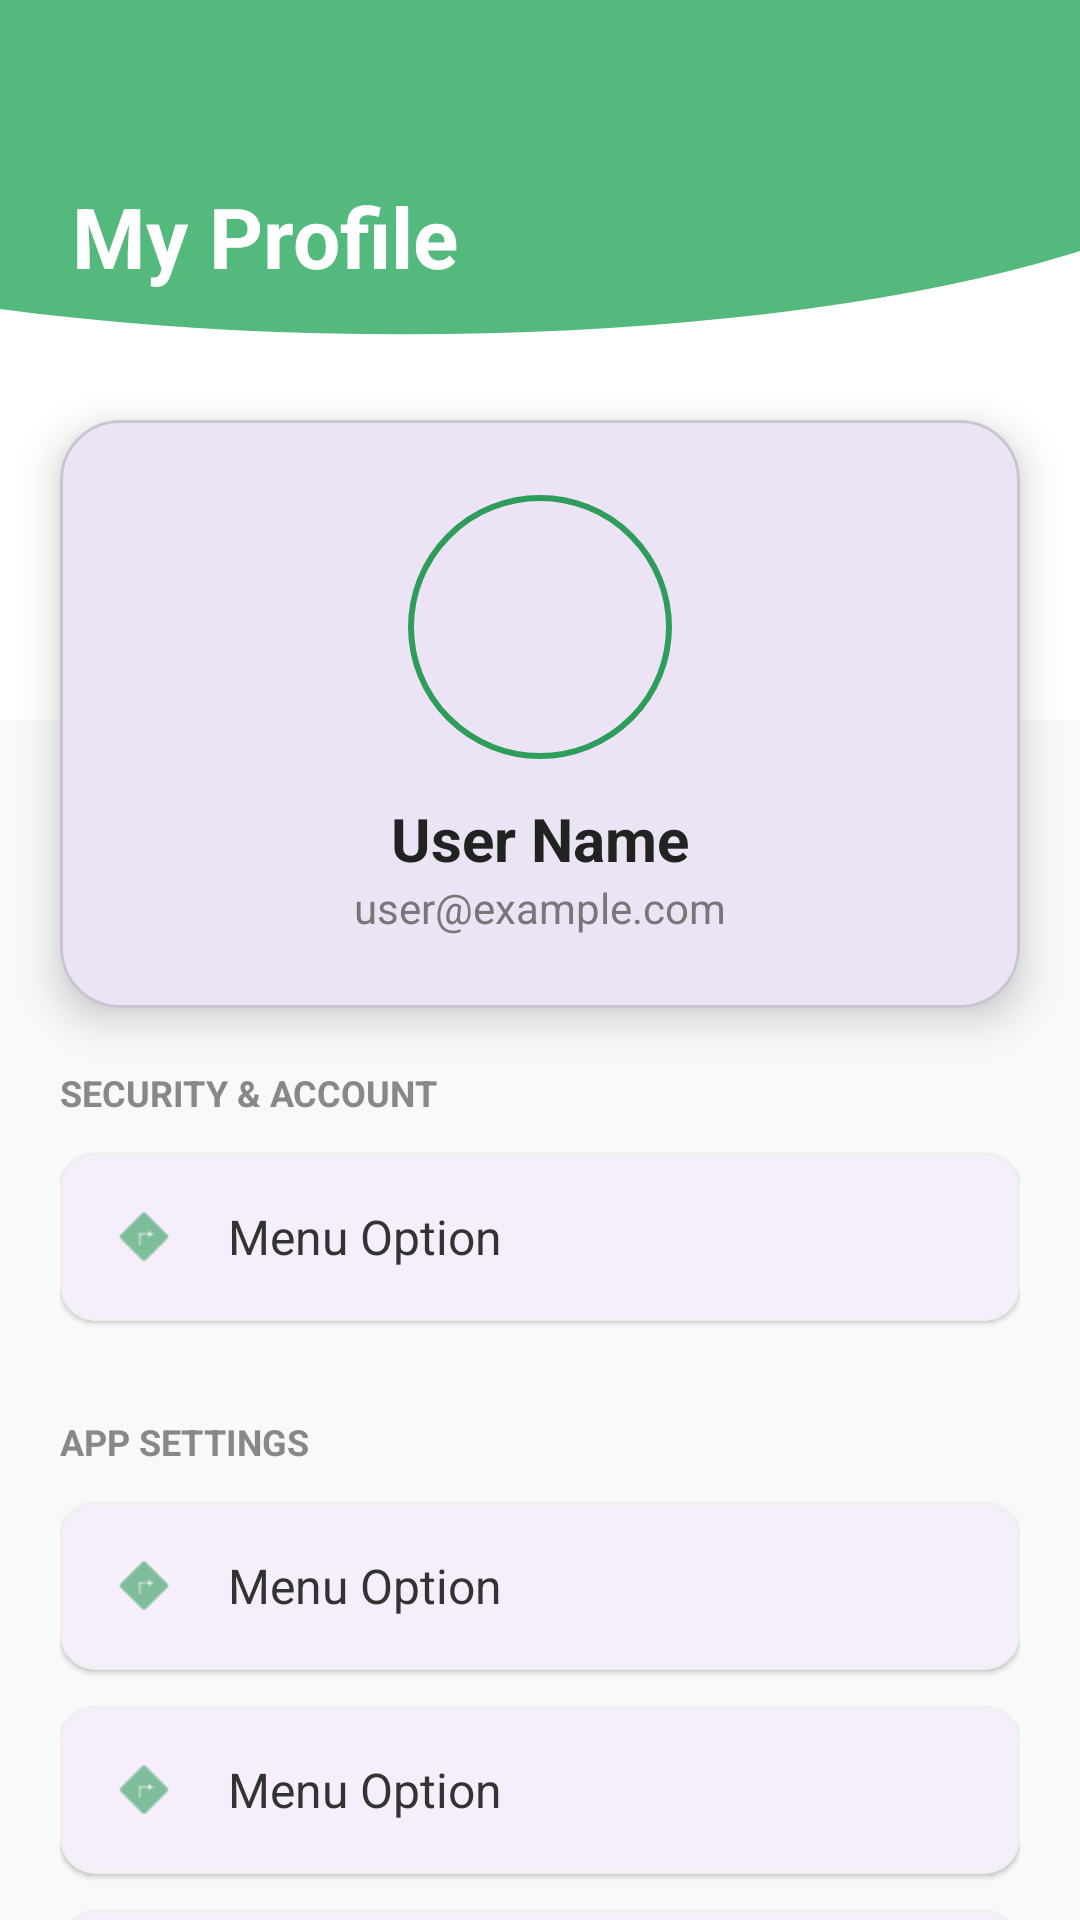

Screen size 1080×1920. Icon name, then its box in pixels as (x1, y1, x2, y2):
directions: (119, 1212, 169, 1261), (119, 1561, 169, 1610), (119, 1765, 169, 1814)
